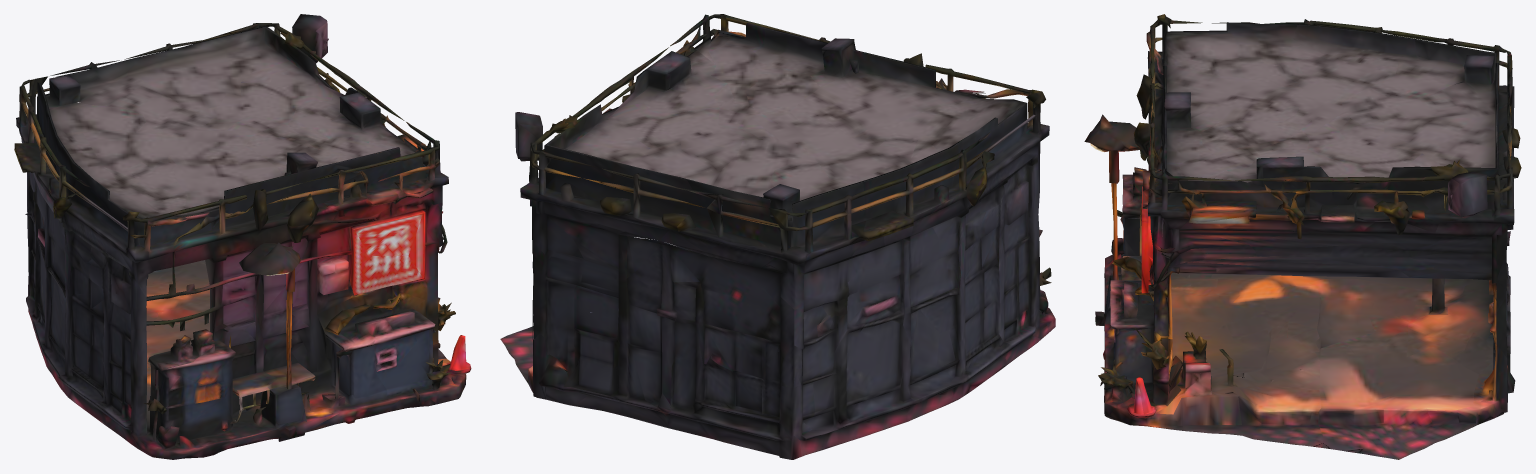
Rendered from 01_garage_shell-clearance.glb.
3 renders of one model, left to right at view 1: azimuth 30°, elevation 25°; view 2: azimuth 150°, elevation 25°; view 3: azimuth 270°, elevation 25°, orthographic. The views are drawn at different scales.
Visible parts, largest first — view 1: tripo_node_de47b250-7bce-40ba-b2fe-4a11374a7a72; view 2: tripo_node_de47b250-7bce-40ba-b2fe-4a11374a7a72; view 3: tripo_node_de47b250-7bce-40ba-b2fe-4a11374a7a72.
Part boxes in pixels (x1,y1,x2,y2): tripo_node_de47b250-7bce-40ba-b2fe-4a11374a7a72: (14,14,471,459); tripo_node_de47b250-7bce-40ba-b2fe-4a11374a7a72: (500,14,1055,459); tripo_node_de47b250-7bce-40ba-b2fe-4a11374a7a72: (1084,14,1521,459).
Size of the model in its own units: 13.42 by 8 by 12.27.
Materials: 1 (1 with a texture image).
